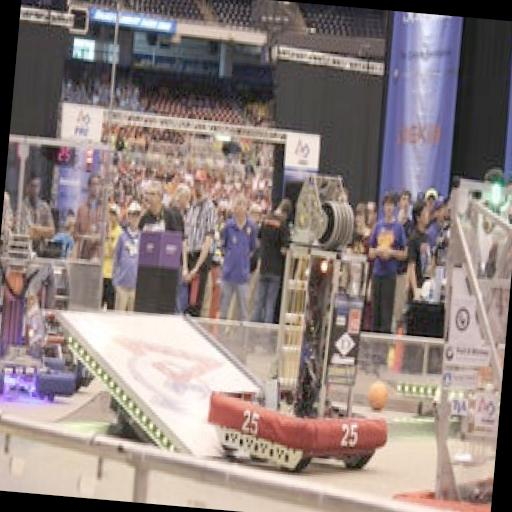robot: (202, 161, 409, 483), (0, 227, 109, 404)
